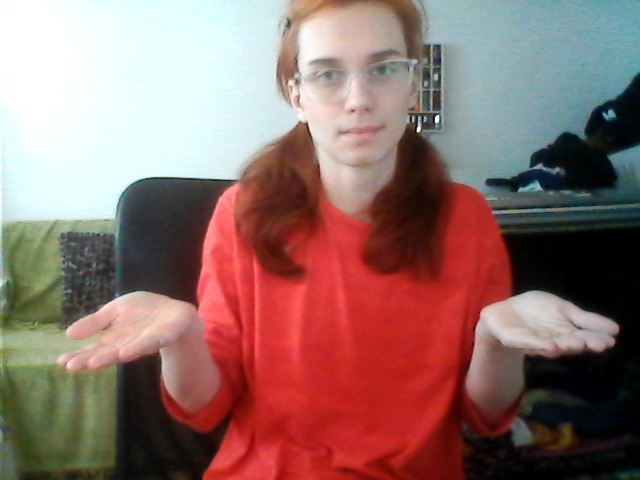alebo: (57, 289, 640, 383)
